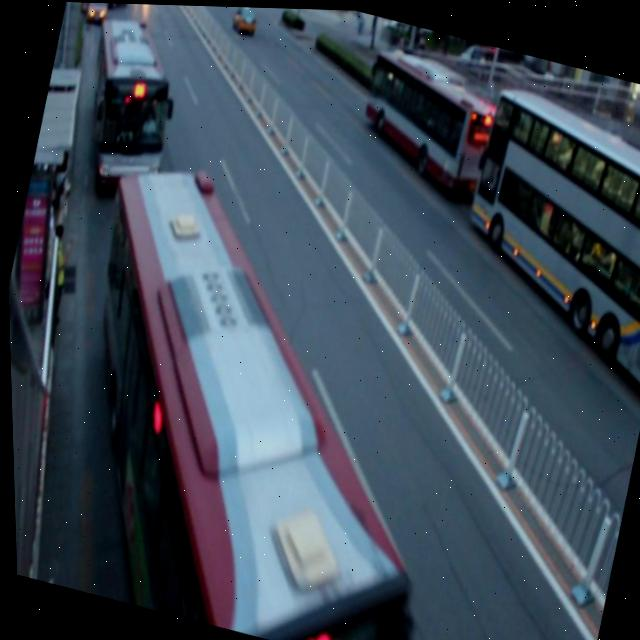car: (228, 5, 259, 36), (82, 2, 113, 26)
van: (23, 169, 488, 640), (437, 83, 640, 390), (347, 44, 509, 198), (65, 17, 187, 196)
